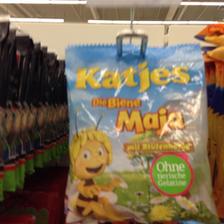candy: (66, 46, 217, 224)
